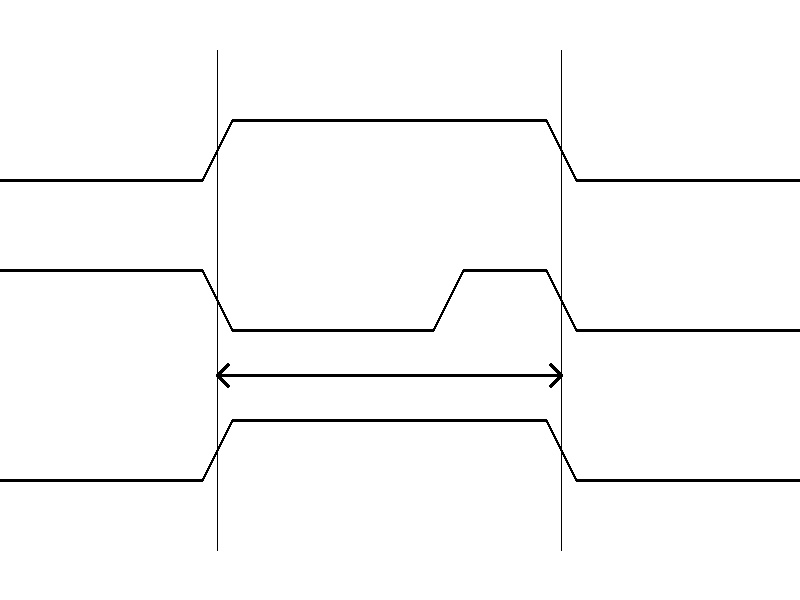double_arrow: (217, 360, 561, 390)
